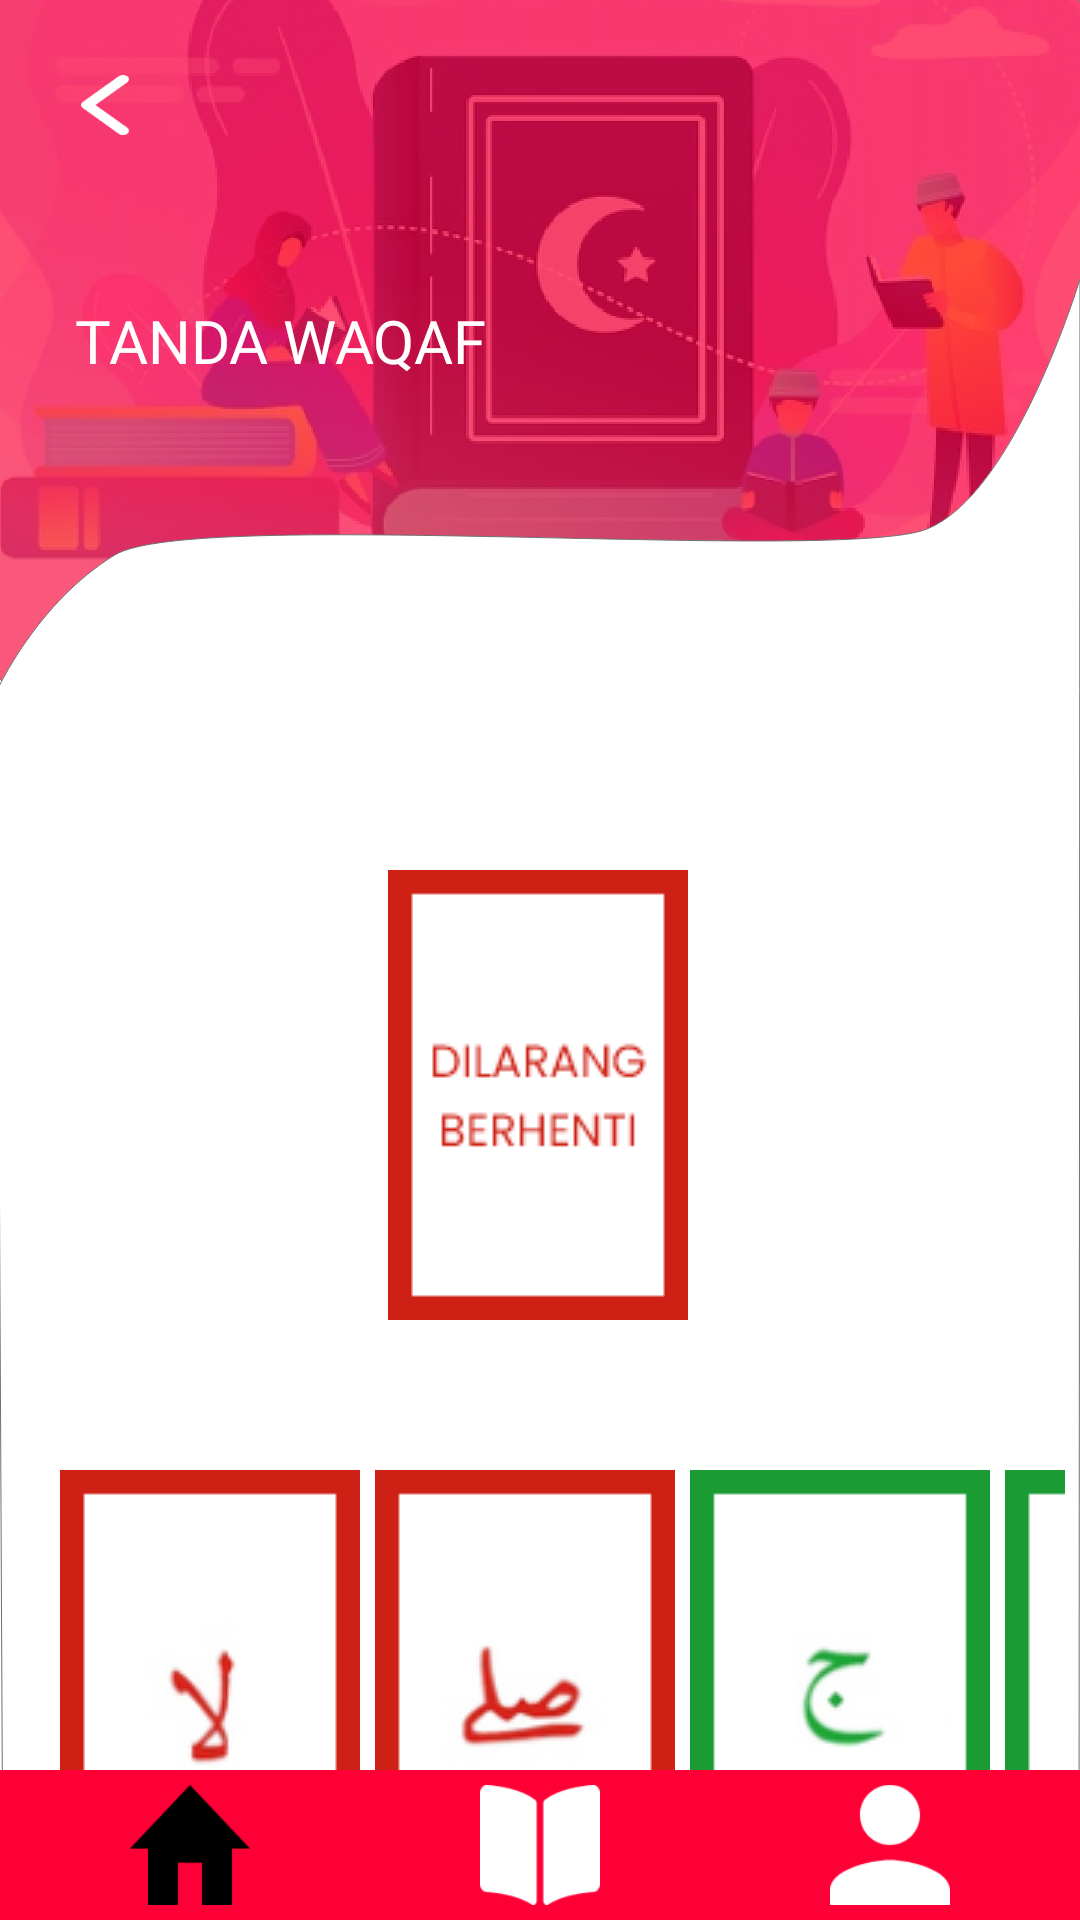

Icons on this 1080 x 1920 Android screen, each with the point to tap as (x=x, y=y):
back: (x=105, y=105)
